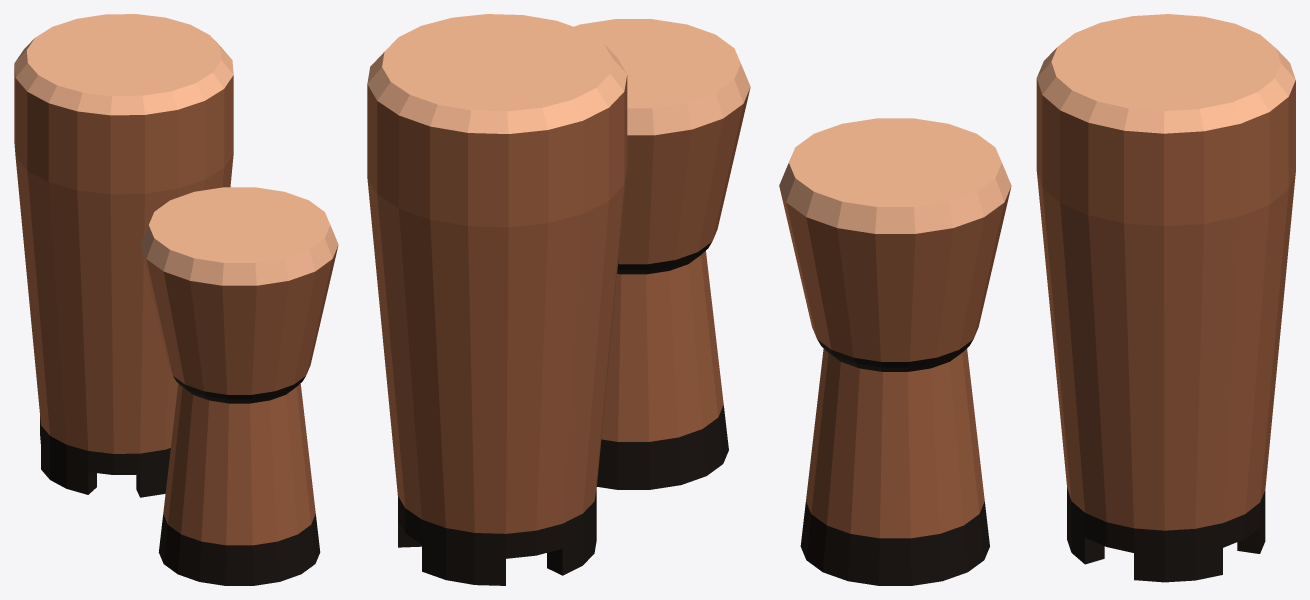
The model's file is Bongos.fbx.
3 views of the same model, side by side, from view 1: azimuth 30°, elevation 25°; view 2: azimuth 150°, elevation 25°; view 3: azimuth 270°, elevation 25° (orthographic). The views are drawn at different scales.
Visible parts, largest first — view 1: Bongo_Tall, Bongo_Small; view 2: Bongo_Tall, Bongo_Small; view 3: Bongo_Tall, Bongo_Small.
Boxes of the visible parts, left/top/right/bottom form: Bongo_Tall: left=14, top=14, right=233, bottom=497; Bongo_Small: left=140, top=187, right=338, bottom=585; Bongo_Tall: left=367, top=14, right=627, bottom=585; Bongo_Small: left=574, top=19, right=750, bottom=489; Bongo_Tall: left=1036, top=14, right=1295, bottom=582; Bongo_Small: left=779, top=118, right=1011, bottom=585.
Bounding box in the file's own units: 77.37 × 159 × 154.
